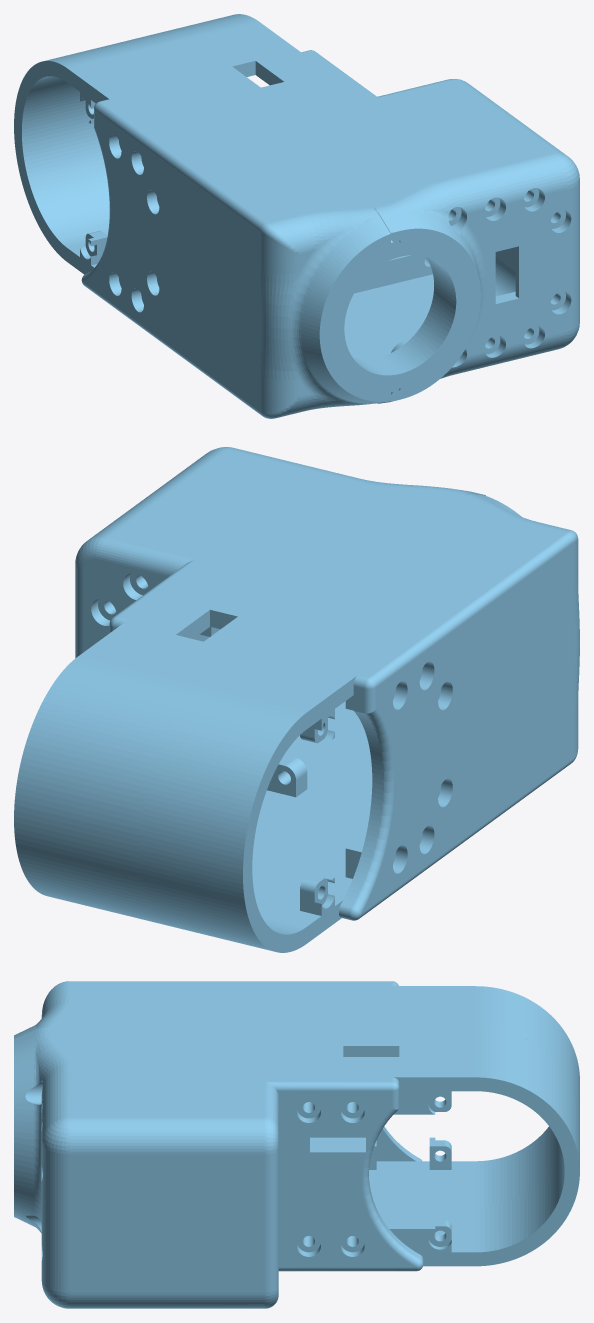
Rendered from FLO-ARM-02 MIDDLE ARM DOUBLE MOUNT-RIGHT.dae.
3 views of the same model, one above another, from view 1: azimuth 30°, elevation 25°; view 2: azimuth 150°, elevation 25°; view 3: azimuth 270°, elevation 25° (orthographic). The views are drawn at different scales.
Parts seen in each view (by area): view 1: 5ca6b6e511c57816261aab15 (×2); view 2: 5ca6b6e511c57816261aab15 (×2); view 3: 5ca6b6e511c57816261aab15 (×2).
Part boxes in pixels (x1,y1,x2,y2): 5ca6b6e511c57816261aab15 (×2): (14,14,579,418); 5ca6b6e511c57816261aab15 (×2): (14,447,579,952); 5ca6b6e511c57816261aab15 (×2): (14,981,579,1308).
Size of the model in its own units: 0.0649 by 0.1034 by 0.0381.
